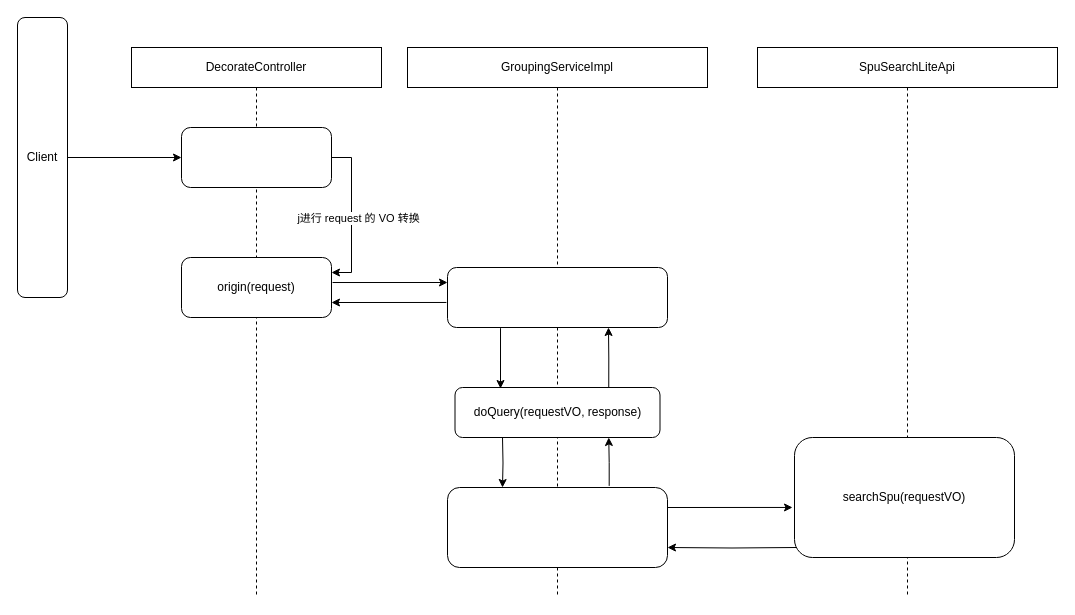
Some shapes in this 1075 by 615 pixel diagram are drawn without their labels. The centre of each missing label's shape, as x and y in pixels:
"queryByCondition(request)" belongs at pixel 256 157.
"querySpuListByCondition(requestVO)" belongs at pixel 557 527.
"querySpuListByGrouping(requestVO)" belongs at pixel 557 297.
